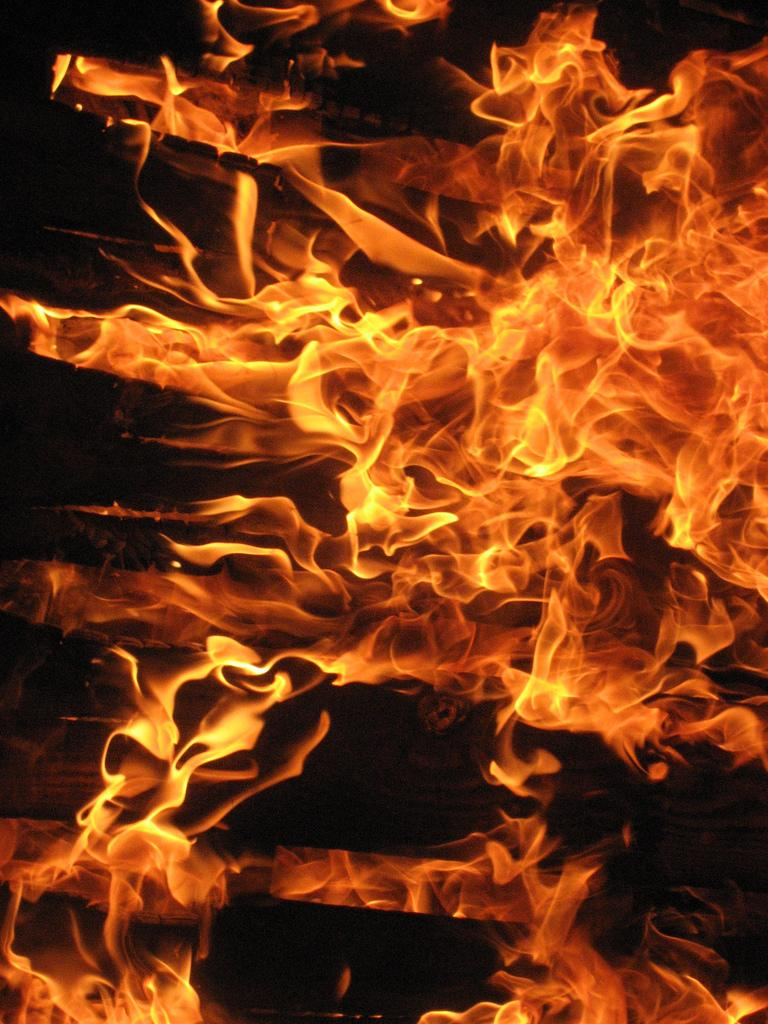fire: (403, 245, 765, 578)
